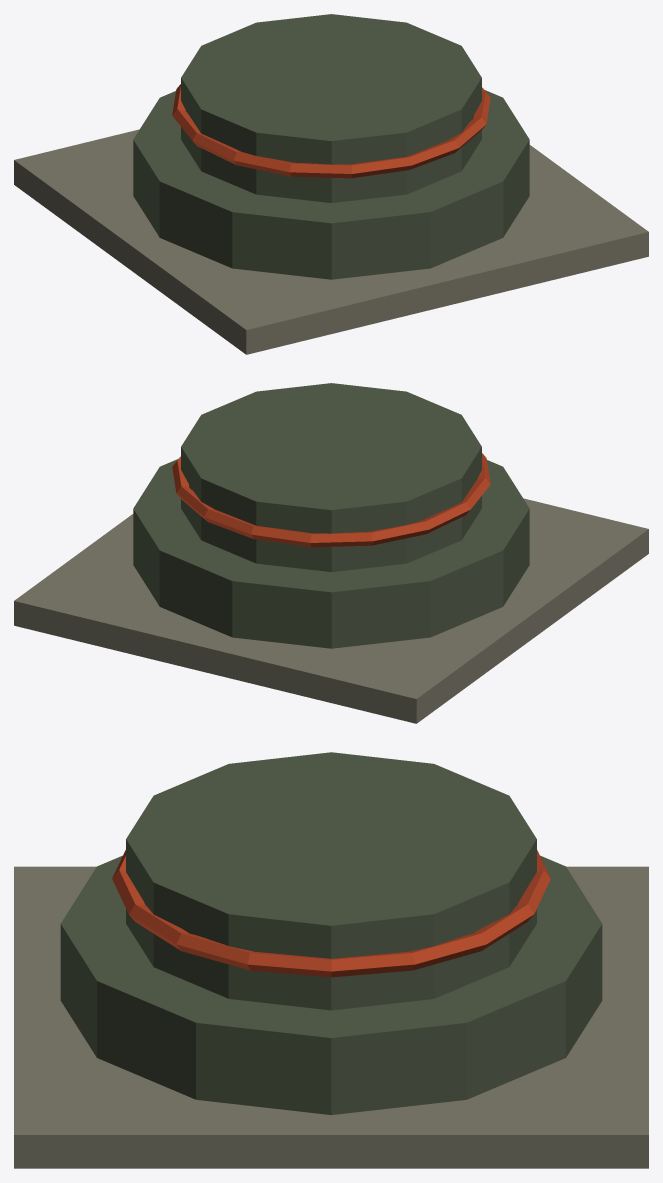
File: Bastion_Turret_Base.obj
3 views of the same model, one above another, from view 1: azimuth 30°, elevation 25°; view 2: azimuth 150°, elevation 25°; view 3: azimuth 270°, elevation 25° (orthographic). The views are drawn at different scales.
Visible parts, largest first — view 1: Bastion_Turret_Base; view 2: Bastion_Turret_Base; view 3: Bastion_Turret_Base.
Boxes of the visible parts, x1,y1,x2,y2 form: Bastion_Turret_Base: (14, 14, 648, 354); Bastion_Turret_Base: (14, 383, 648, 723); Bastion_Turret_Base: (14, 752, 648, 1168).
Size of the model in its own units: 3.4 by 1.15 by 3.4.
Materials: 1 (1 with a texture image).
